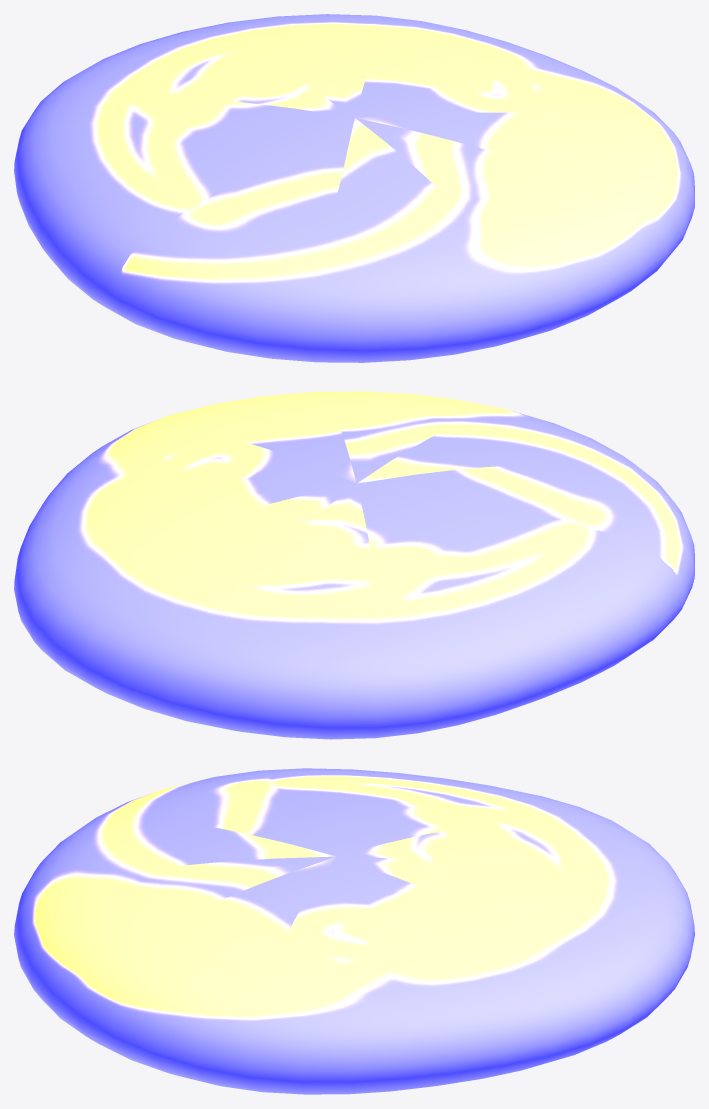
File: Spider38.glb
3 renders of one model, top to bottom at view 1: azimuth 30°, elevation 25°; view 2: azimuth 150°, elevation 25°; view 3: azimuth 270°, elevation 25°, orthographic. The views are drawn at different scales.
Parts seen in each view (by area): view 1: Butt; view 2: Butt; view 3: Butt.
Part boxes in pixels (box(x1,y1,x2,y2)): Butt: box(14, 14, 694, 362); Butt: box(14, 391, 694, 739); Butt: box(14, 768, 694, 1094).
Size of the model in its own units: 0.2459 by 0.0733 by 0.2583.
